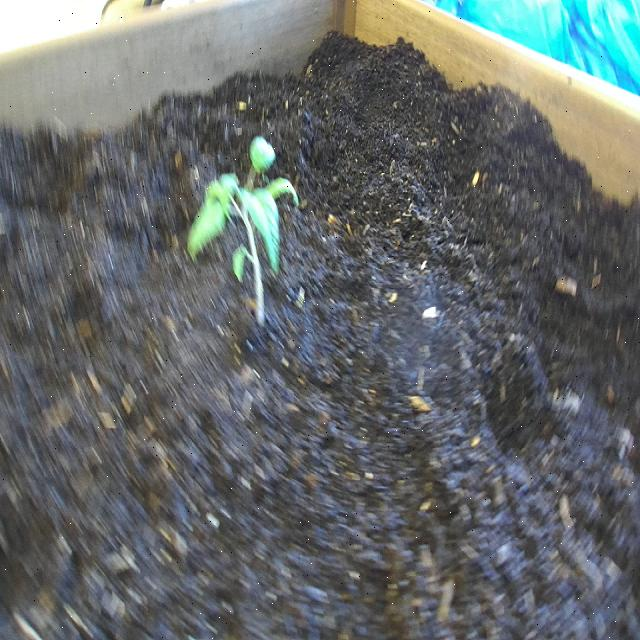Healthy: (178, 120, 308, 339)
